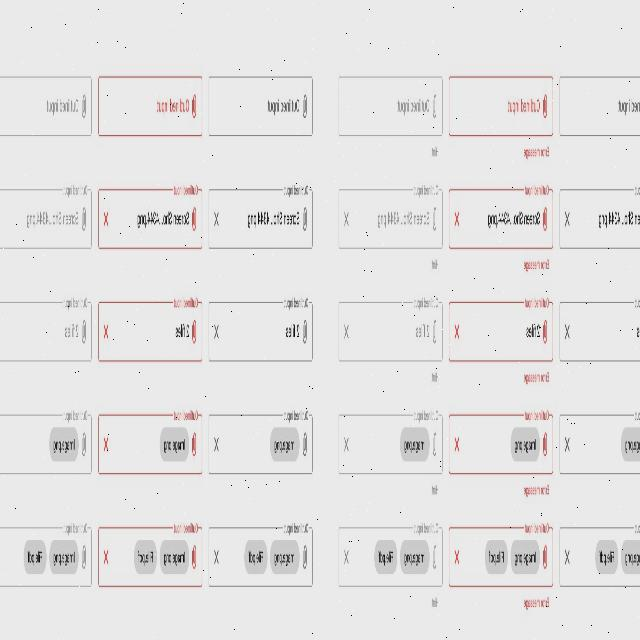VFileInput: (448, 296, 554, 387), (448, 522, 554, 610), (448, 410, 554, 498), (448, 184, 554, 272), (338, 522, 444, 610), (448, 74, 554, 160), (338, 75, 444, 161), (338, 184, 444, 270), (338, 298, 444, 384), (338, 410, 444, 496), (208, 183, 314, 251), (208, 296, 314, 364), (208, 522, 314, 590), (98, 184, 204, 252), (98, 296, 204, 364), (97, 410, 203, 478), (560, 182, 640, 272), (560, 408, 640, 496), (208, 73, 314, 139), (208, 410, 314, 476), (560, 522, 640, 609), (98, 74, 203, 140), (98, 524, 203, 590), (560, 296, 640, 382), (559, 74, 640, 158), (0, 294, 93, 364), (0, 521, 93, 589), (0, 184, 93, 251), (1, 411, 92, 476), (1, 74, 92, 138)
